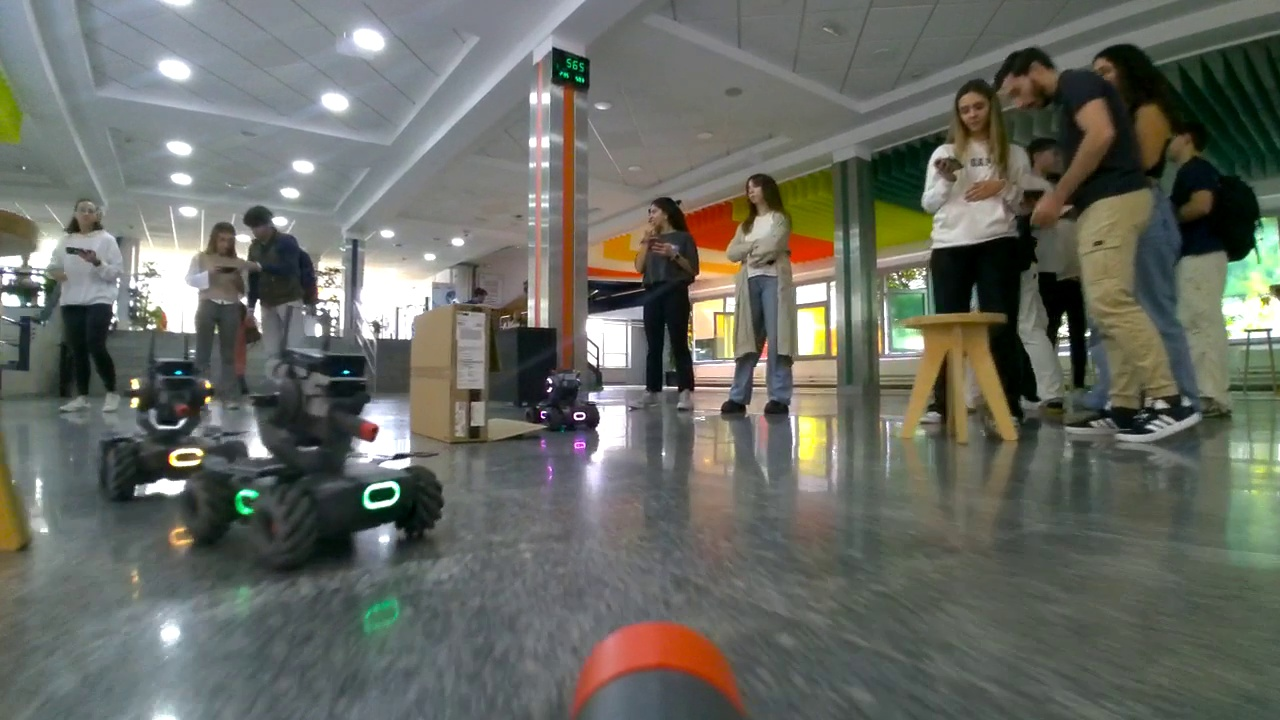robot: (180, 339, 448, 576), (89, 363, 242, 504), (516, 368, 606, 433)
